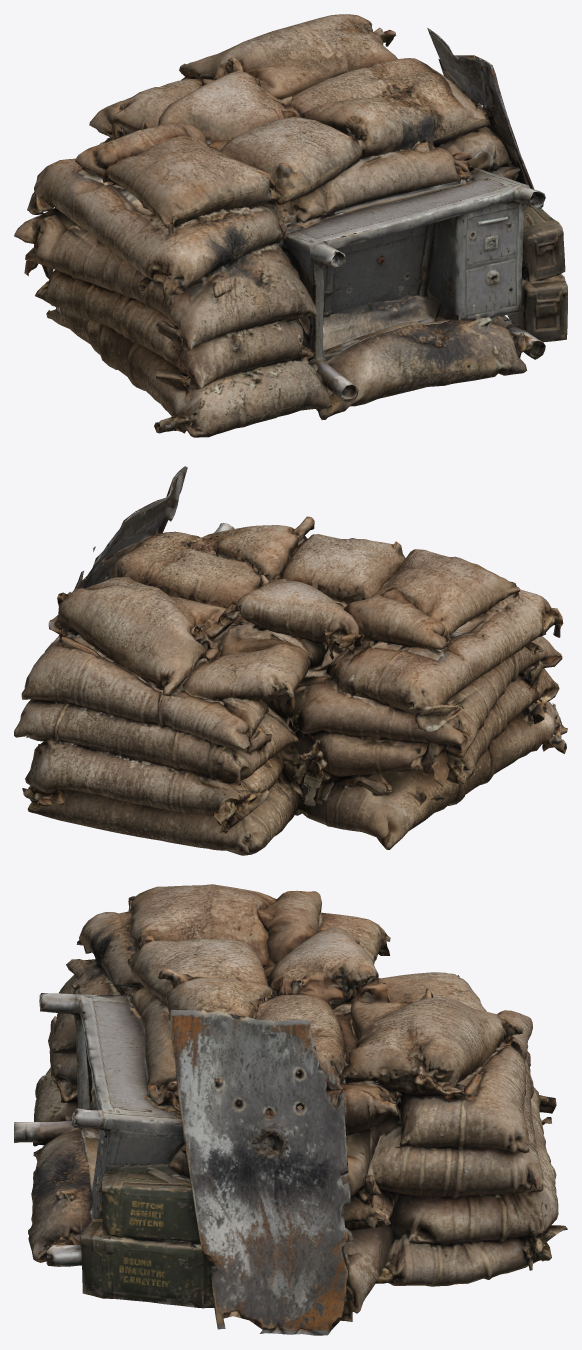
Rendered from BKI_Barricade.fbx.
The picture shows the model from 3 angles, top to bottom: view 1: azimuth 30°, elevation 25°; view 2: azimuth 150°, elevation 25°; view 3: azimuth 270°, elevation 25°; orthographic projection. The views are drawn at different scales.
Parts seen in each view (by area): view 1: texture_mapping; view 2: texture_mapping; view 3: texture_mapping.
Boxes of the visible parts, x1,y1,x2,y2 form: texture_mapping: [14, 14, 567, 437]; texture_mapping: [14, 466, 567, 855]; texture_mapping: [14, 884, 567, 1335].
Size of the model in its own units: 0.9992 by 0.9443 by 0.5255.
1 material, 1 textured.
